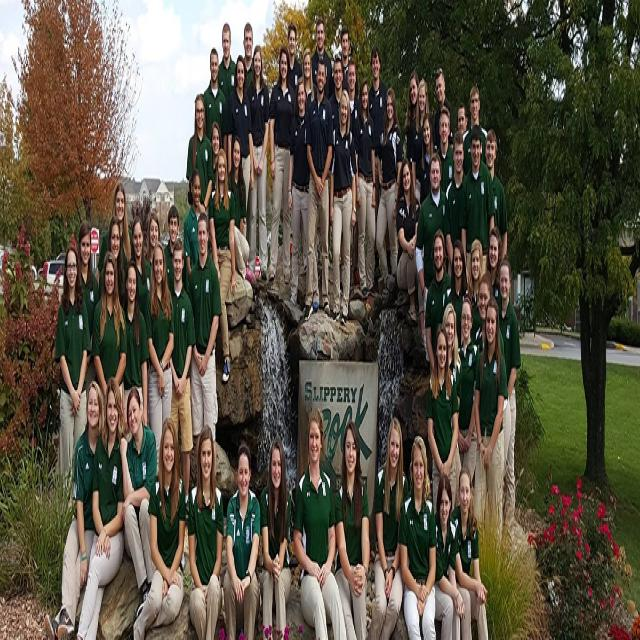body: (40, 372, 107, 639), (290, 399, 354, 638), (129, 415, 186, 640), (75, 379, 124, 640), (472, 292, 508, 578), (121, 380, 162, 619), (363, 411, 406, 638), (330, 414, 371, 638), (56, 241, 90, 508), (188, 210, 220, 493), (398, 428, 441, 638), (492, 252, 522, 550), (302, 54, 334, 329), (184, 418, 223, 639), (168, 235, 197, 523), (222, 436, 262, 639), (286, 74, 319, 316), (258, 433, 295, 639), (145, 238, 176, 479), (207, 146, 238, 387), (414, 149, 448, 366), (267, 42, 297, 287), (327, 84, 357, 328), (424, 322, 460, 522), (450, 463, 490, 640), (460, 122, 496, 296), (394, 155, 426, 350), (368, 41, 393, 282), (353, 73, 378, 302), (376, 85, 405, 281), (226, 52, 255, 244), (433, 472, 466, 640), (245, 41, 268, 282), (120, 258, 150, 442), (92, 251, 128, 399), (454, 290, 479, 488), (424, 228, 457, 376), (227, 134, 256, 289), (441, 302, 462, 511), (95, 178, 133, 288), (443, 127, 468, 287), (185, 91, 214, 220), (77, 217, 100, 375), (484, 126, 509, 266), (473, 269, 506, 362), (411, 76, 431, 225), (460, 83, 490, 180), (98, 214, 126, 317), (203, 46, 228, 158), (182, 168, 203, 298), (446, 236, 469, 352), (331, 22, 360, 104), (418, 109, 441, 210), (131, 215, 152, 322), (162, 201, 185, 292), (466, 238, 484, 348), (311, 16, 332, 109), (294, 44, 319, 118), (434, 64, 454, 152), (143, 208, 163, 295), (403, 69, 420, 171), (217, 20, 237, 104), (436, 103, 454, 195), (485, 225, 503, 314), (286, 23, 304, 96), (242, 20, 256, 109), (345, 56, 360, 137), (329, 55, 344, 134), (208, 119, 222, 173), (456, 98, 469, 143)
